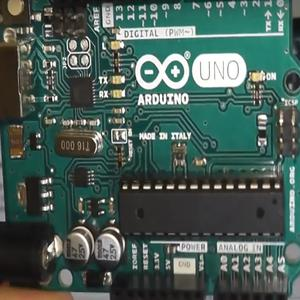duino: (0, 0, 296, 299)
